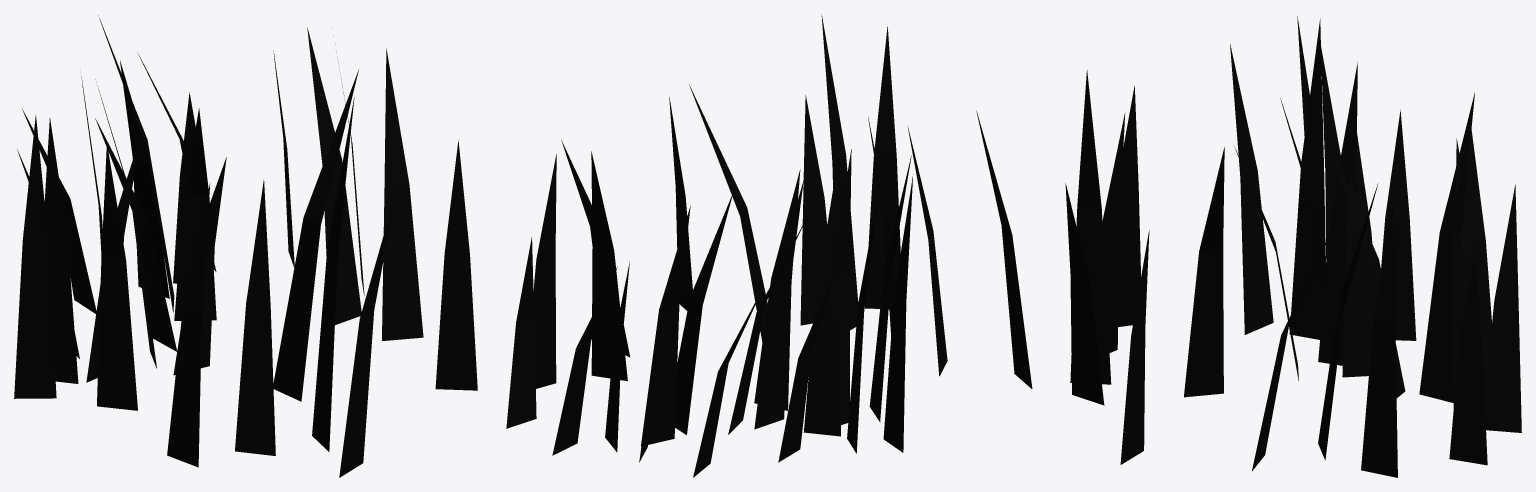
Rendered from SM_grass_dry.fbx.
The picture shows the model from 3 angles, left to right: view 1: azimuth 30°, elevation 25°; view 2: azimuth 150°, elevation 25°; view 3: azimuth 270°, elevation 25°; orthographic projection. The views are drawn at different scales.
Parts seen in each view (by area): view 1: grass_dry; view 2: grass_dry; view 3: grass_dry.
Part boxes in pixels (x1,y1,x2,y2): grass_dry: [14, 15, 477, 477]; grass_dry: [506, 14, 947, 477]; grass_dry: [976, 16, 1521, 477].
Bounding box in the file's own units: 0.417 × 0.3549 × 0.5316.
